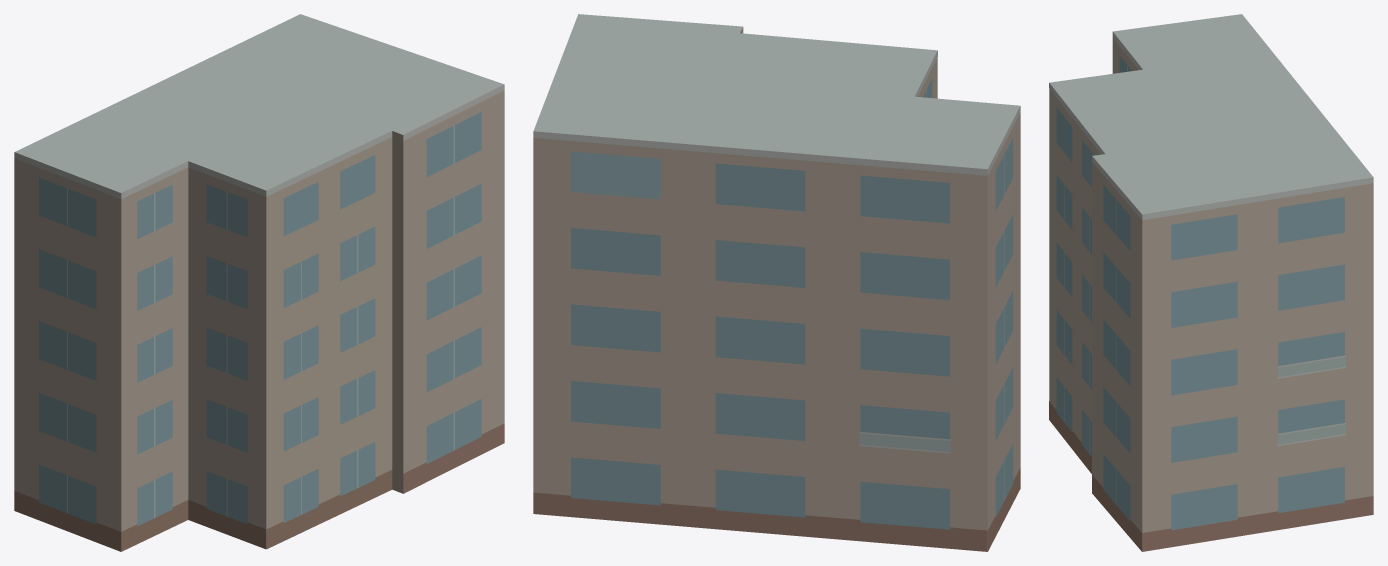
The model's file is survey-upis-33042060.glb.
3 renders of one model, left to right at view 1: azimuth 30°, elevation 25°; view 2: azimuth 150°, elevation 25°; view 3: azimuth 270°, elevation 25°, orthographic. The views are drawn at different scales.
Parts seen in each view (by area): view 1: survey-upis-33042060.tmp; view 2: survey-upis-33042060.tmp; view 3: survey-upis-33042060.tmp.
Boxes of the visible parts, box(x1,y1,x2,y2) form: survey-upis-33042060.tmp: box(14, 14, 504, 551); survey-upis-33042060.tmp: box(533, 14, 1020, 551); survey-upis-33042060.tmp: box(1049, 14, 1373, 551).
Size of the model in its own units: 18.11 by 14.2 by 12.39.
